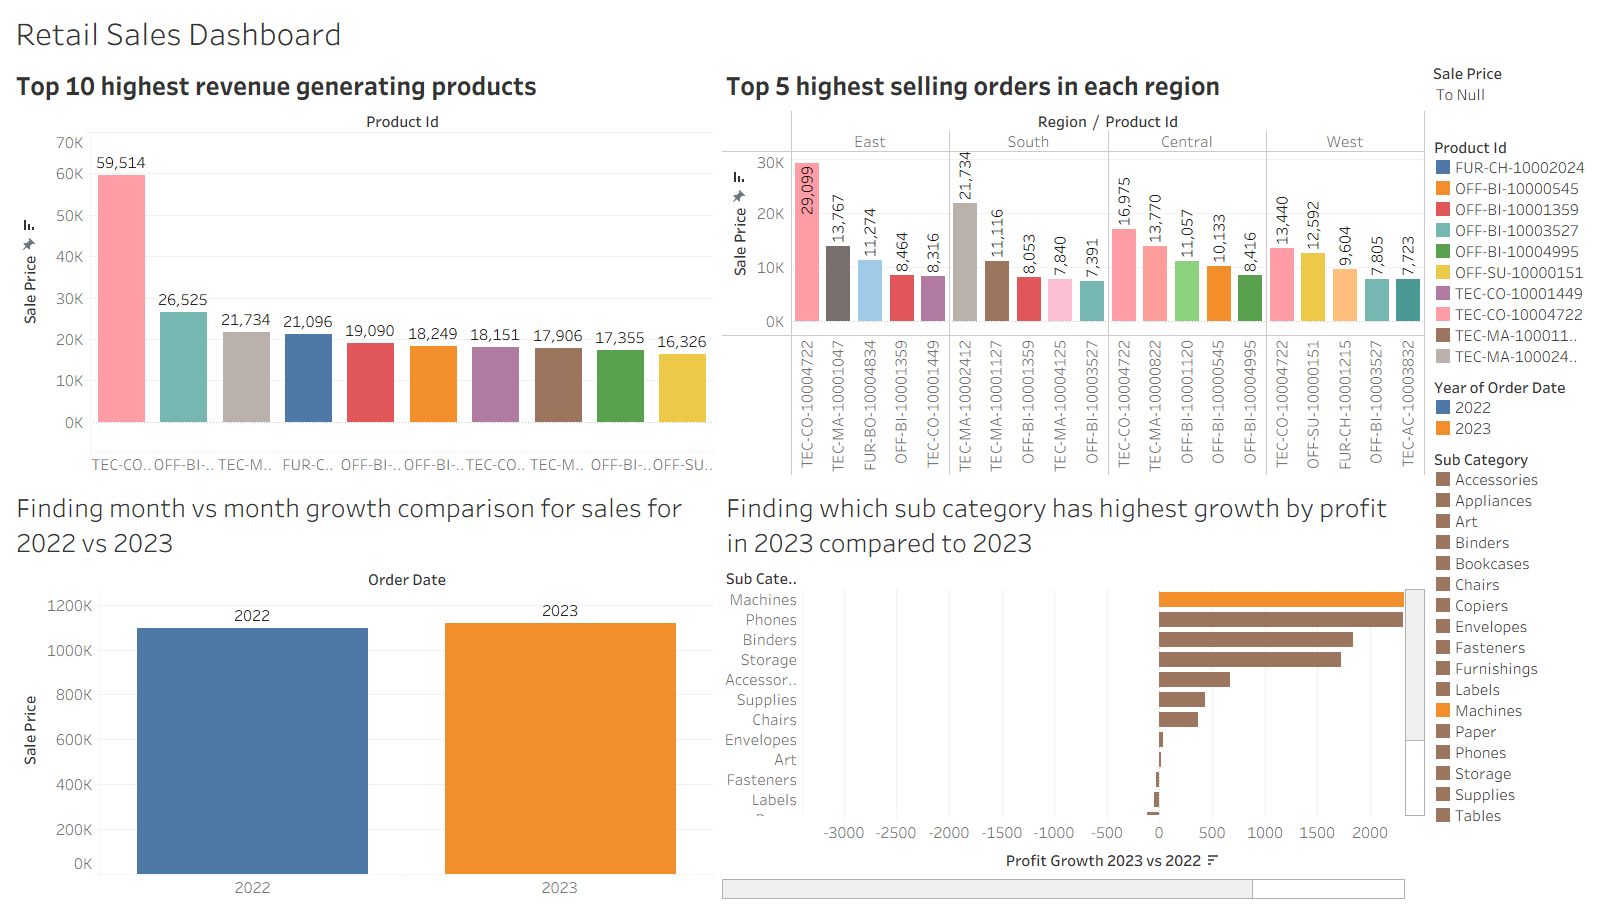

The dashboard page shown, as its layout file describes it:
{"tool":"tableau","page":{"name":"Retail Sales Dashboard","canvas":[1000,1000],"units":"permille","ordinal":0},"visuals":[{"type":"title","box":[6.8,11.9,986.4,74.6]},{"type":"worksheet","title":"Top 10 highest revenue generating products","mark":"Automatic","rows":["sale_price"],"cols":["product_id"],"box":[6.8,86.6,425.2,450.7]},{"type":"worksheet","title":"top 5 highest selling orders in each region","mark":"Automatic","rows":["sale_price"],"cols":["region","product_id"],"box":[432,86.6,425.2,450.7]},{"type":"filter","title":"Top 10 highest revenue generating products","param":"[federated.0406is51r6scfy14fbnyv0y65yac].[sum:sale_price:qk]","box":[857.3,86.6,135.9,109]},{"type":"legend","title":"Top 10 highest revenue generating products","param":"[federated.0406is51r6scfy14fbnyv0y65yac].[none:product_id:nk]","box":[857.3,195.5,135.9,342.5]},{"type":"worksheet","title":"find month vs month growth comparison for sales for 2022 vs 2023","mark":"Bar","rows":["sale_price"],"cols":["order_date"],"box":[6.8,537.3,425.2,450.8]},{"type":"worksheet","title":"Finding which sub category has highest growth by profit in 2023 compared to 2023","mark":"Automatic","rows":["sub_category"],"cols":["Calculation_0382416940089344"],"box":[432,537.3,425.2,450.8]},{"type":"legend","title":"find month vs month growth comparison for sales for 2022 vs 2023","param":"[federated.0406is51r6scfy14fbnyv0y65yac].[yr:order_date:ok]","box":[857.3,538.1,135.9,107.5]},{"type":"legend","title":"Finding which sub category has highest growth by profit in 2023 compared to 2023","param":"[federated.0406is51r6scfy14fbnyv0y65yac].[none:sub_category:nk]","box":[857.3,645.5,135.9,342.5]}]}

Visuals, with their boxes on the dashboard's canvas, which has no fixed pixel size, in thousandths of its width and height (x1, y1, x2, y2). These are canvas units, not pixel positions in the 1597x911 screenshot, which may show the page scaled, cropped or inside an application window:
title: bbox=[7, 12, 993, 86]
"Top 10 highest revenue generating products" worksheet: bbox=[7, 87, 432, 537]
"top 5 highest selling orders in each region" worksheet: bbox=[432, 87, 857, 537]
"Top 10 highest revenue generating products" filter: bbox=[857, 87, 993, 196]
"Top 10 highest revenue generating products" legend: bbox=[857, 196, 993, 538]
"find month vs month growth comparison for sales for 2022 vs 2023" worksheet (Bar marks): bbox=[7, 537, 432, 988]
"Finding which sub category has highest growth by profit in 2023 compared to 2023" worksheet: bbox=[432, 537, 857, 988]
"find month vs month growth comparison for sales for 2022 vs 2023" legend: bbox=[857, 538, 993, 646]
"Finding which sub category has highest growth by profit in 2023 compared to 2023" legend: bbox=[857, 646, 993, 988]
